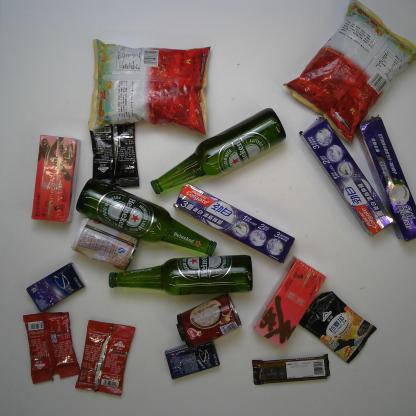Alcohol: (150, 105, 287, 196), (75, 178, 218, 258), (108, 253, 254, 296)
Canned Food: (175, 292, 242, 350), (70, 216, 140, 271)
Chocolate: (251, 353, 331, 386)
Gum: (25, 262, 87, 314), (164, 340, 221, 380)
Instant Drink: (250, 254, 328, 349), (298, 290, 378, 364), (74, 318, 136, 398), (31, 133, 82, 223), (22, 310, 81, 385), (89, 122, 141, 189)
Personal Hygiene: (299, 115, 397, 239), (172, 180, 296, 265), (355, 113, 416, 243)
Puffed Food: (282, 0, 416, 144), (87, 38, 213, 136)
